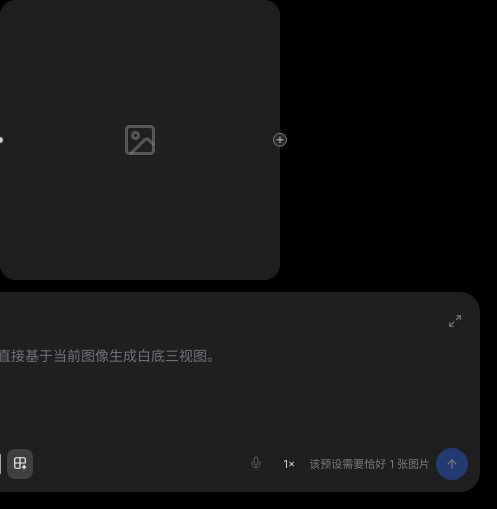
GenImageNode 提示词预设 › 重选另一个预设即替换（单选）
Click the button named "预设": (20, 464) [7,449,33,479]
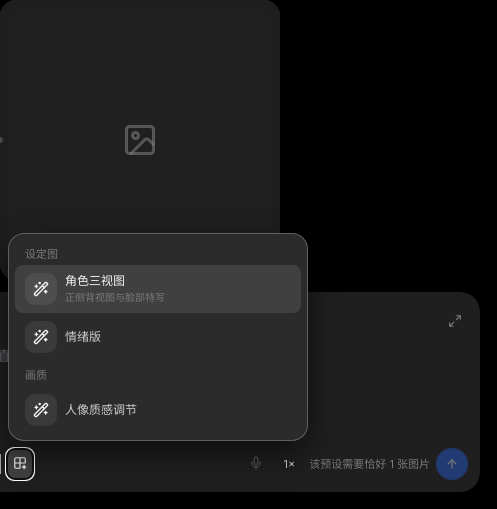
Click the button "情绪版": (41, 337) [15,313,301,361]
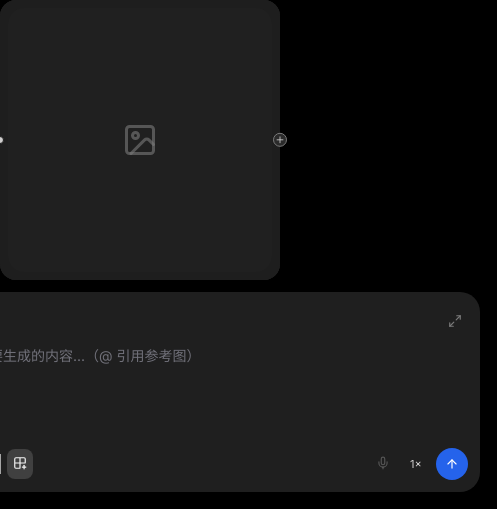
Check: the text "角色三视图" is gone
